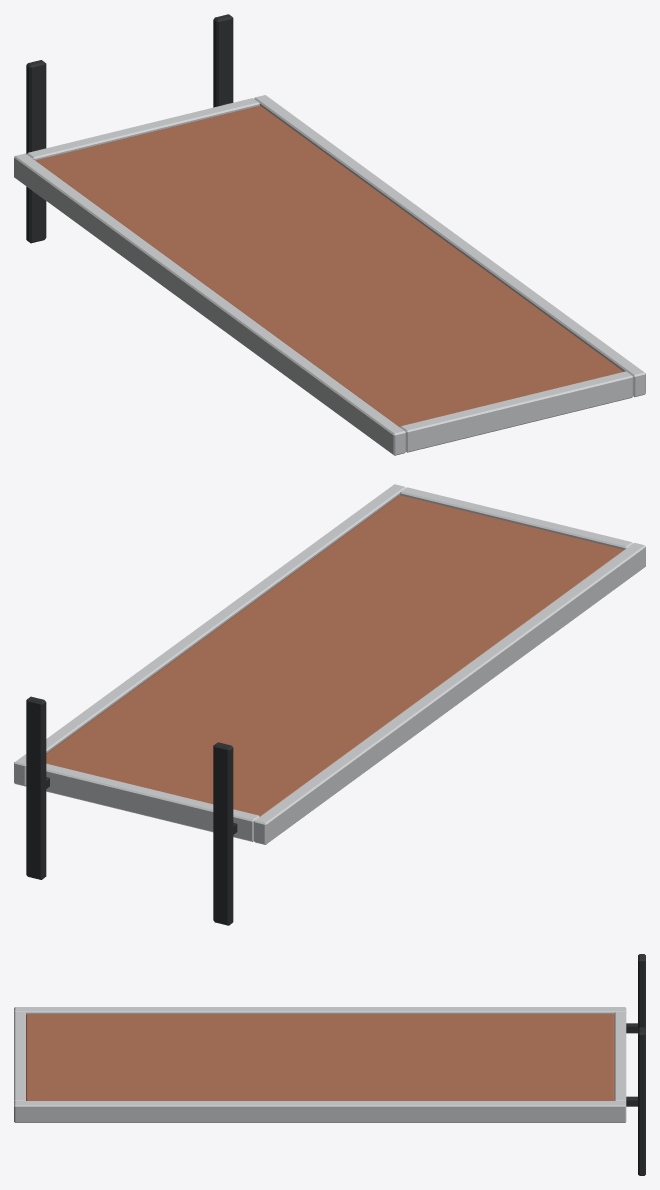
The model's file is folding_partition_screen_body.glb.
The picture shows the model from 3 angles, top to bottom: view 1: azimuth 30°, elevation 25°; view 2: azimuth 150°, elevation 25°; view 3: azimuth 270°, elevation 25°; orthographic projection. The views are drawn at different scales.
Visible parts, largest first — view 1: export_tmp; view 2: export_tmp; view 3: export_tmp.
Part boxes in pixels (<box>): export_tmp: <box>14,14,645,455</box>; export_tmp: <box>14,484,645,925</box>; export_tmp: <box>14,954,645,1175</box>.
Size of the model in its own units: 0.594 by 0.4 by 1.6.
